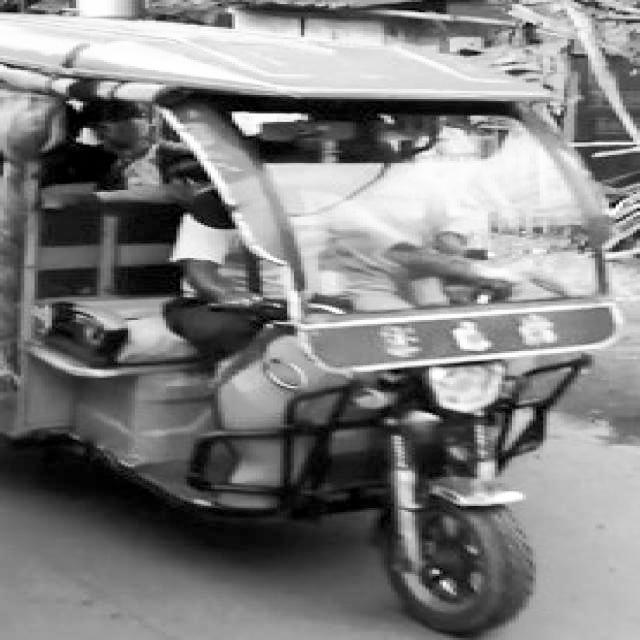Toto: (0, 11, 630, 640)
